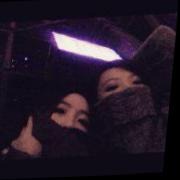OK: (96, 70, 157, 128)
WRONG: (46, 98, 97, 153)
